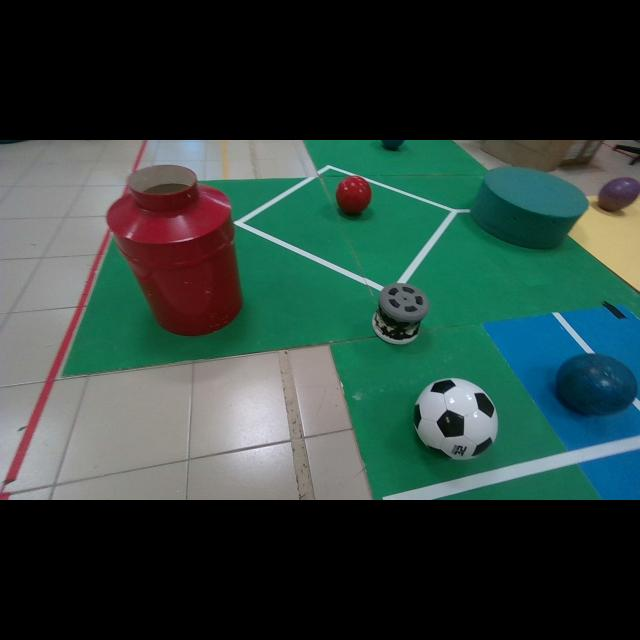B: (556, 354, 638, 415)
P: (598, 179, 640, 211)
R: (336, 176, 371, 214)
